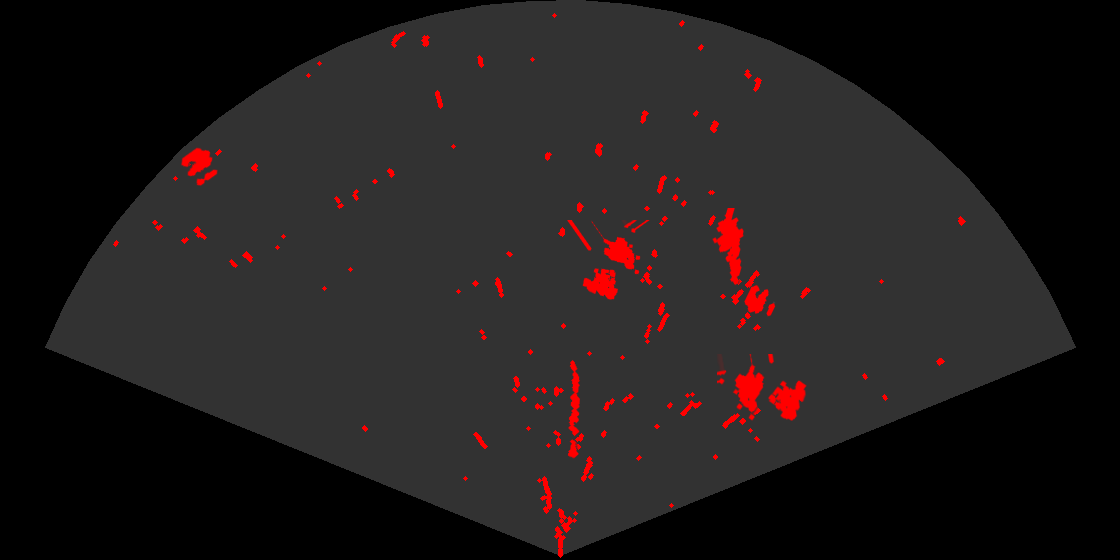ball: (179, 146, 219, 188), (743, 283, 777, 318)
cage: (566, 220, 651, 301), (717, 354, 808, 422)
chain: (566, 358, 582, 459)
frogman: (711, 208, 745, 287)
